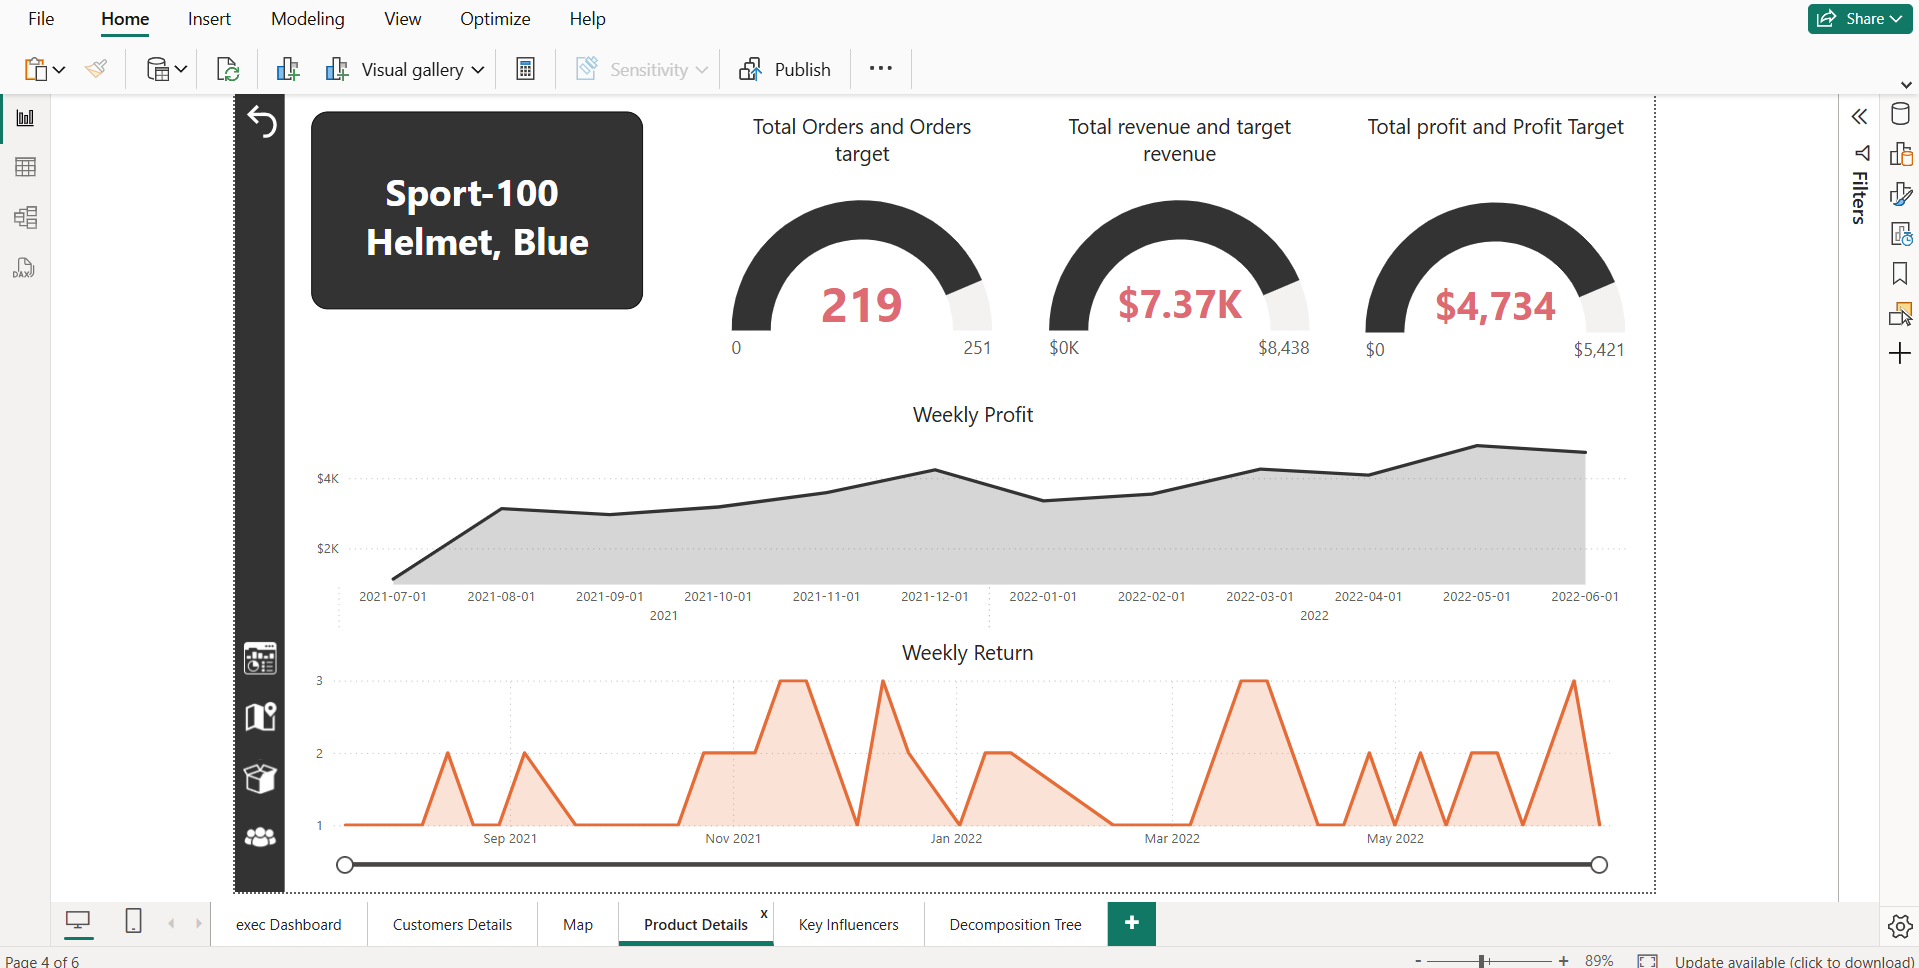

The dashboard page shown, as its layout file describes it:
{"tool":"powerbi","page":{"name":"Product Details","canvas":[1280,720],"ordinal":3},"visuals":[{"type":"gauge","fields":{"Y":["Table Measures.Total Orders"],"MaxValue":["Table Measures.Orders target"]},"box":[442.7,15.9,245,260],"z":0},{"type":"actionButton","box":[0,489.1,45.2,39.1],"z":0,"group":"g1"},{"type":"gauge","fields":{"MaxValue":["Table Measures.target revenue"],"Y":["Table Measures.Total revenue"]},"box":[728.8,15.9,245,260],"z":1000},{"type":"actionButton","box":[0,542.9,45.2,39.1],"z":1000,"group":"g1"},{"type":"gauge","fields":{"Y":["Table Measures.Total profit"],"MaxValue":["Table Measures.Profit Target"]},"box":[1015,15.9,244.6,288.6],"z":2000},{"type":"actionButton","box":[0,650.5,45.2,39.1],"z":2000,"group":"g1"},{"type":"areaChart","title":"Weekly Profit","fields":{"Y":["Table Measures.Total profit"],"Category":["Calendar Lookup.Date Hierarchy.Year","Calendar Lookup.Date Hierarchy.Start of Month","Calendar Lookup.Date Hierarchy.Start of Week"]},"box":[68.5,276.4,1193.5,216.4],"z":3000},{"type":"actionButton","box":[0,596.7,45.2,39.1],"z":3000,"group":"g1"},{"type":"areaChart","title":"Weekly Return","fields":{"Category":["Calendar Lookup.Start of Week"],"Y":["Table Measures.Total Returns"]},"box":[59.9,490.4,1202,215.2],"z":4000},{"type":"card","fields":{"Values":["Min(Product_Lookup.ProductName)"]},"box":[68.5,15.9,299.6,178.5],"z":5000},{"type":"shape","title":"left nav","box":[0,0,45,720],"z":5001},{"type":"group","id":"g1","title":"navigation buttons","box":[0,489.1,45.2,200.5],"z":5002},{"type":"actionButton","box":[4.3,4.3,44.3,40],"z":5003}]}

Visuals, with their boxes on the page's 1280x720 design canvas (x1, y1, x2, y2). These are canvas units, not pixel positions in the 1919x968 screenshot, which may show the page scaled, cropped or inside an application window:
gauge - Table Measures.Total Orders x Table Measures.Orders target: BBox(443, 16, 688, 276)
actionButton: BBox(0, 489, 45, 528)
gauge - Table Measures.target revenue x Table Measures.Total revenue: BBox(729, 16, 974, 276)
actionButton: BBox(0, 543, 45, 582)
gauge - Table Measures.Total profit x Table Measures.Profit Target: BBox(1015, 16, 1260, 304)
actionButton: BBox(0, 650, 45, 690)
"Weekly Profit" areaChart: BBox(68, 276, 1262, 493)
actionButton: BBox(0, 597, 45, 636)
"Weekly Return" areaChart: BBox(60, 490, 1262, 706)
card - Min(Product_Lookup.ProductName): BBox(68, 16, 368, 194)
"left nav" shape: BBox(0, 0, 45, 720)
"navigation buttons" group: BBox(0, 489, 45, 690)
actionButton: BBox(4, 4, 49, 44)
